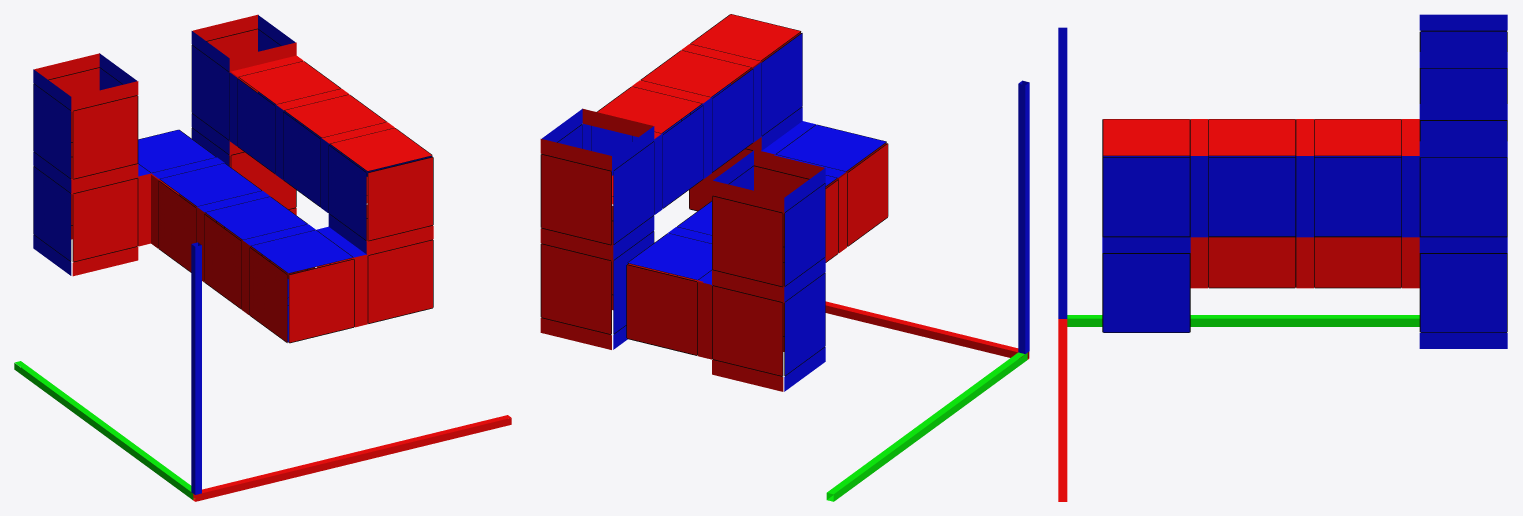
The picture shows the model from 3 angles, left to right: view 1: azimuth 30°, elevation 25°; view 2: azimuth 150°, elevation 25°; view 3: azimuth 270°, elevation 25°; orthographic projection. The views are drawn at different scales.
Visible parts, largest first — view 1: spider(1, 0, 1):-J, spider(2, 0, 1):-J, spider(2, 0, 2):-J, spider(0, 3, 1):-J, spider(0, 3, 2):-J, spider(2, 2, 2):-I, spider(0, 3, 2):-I, spider(2, 0, 2):-I, spider(0, 3, 1):-I, spider(2, 3, 2):-I, spider(1, 0, 1):-I, spider(2, 1, 2):-I (+37 smaller); view 2: spider(0, 3, 1):+J, spider(2, 3, 1):+J, spider(1, 3, 1):+J, spider(2, 3, 2):+J, spider(0, 3, 2):+J, spider(2, 1, 2):-I, spider(0, 3, 1):-I, spider(0, 3, 2):-I, spider(1, 0, 1):-I, spider(2, 0, 2):-I, spider(2, 2, 2):-I, spider(2, 3, 2):-I (+39 smaller); view 3: spider(2, 0, 2):+I, spider(2, 1, 2):+I, spider(2, 3, 2):+I, spider(2, 2, 2):+I, spider(2, 0, 1):+I, spider(2, 3, 1):+I, spider(1, 1, 1):+I, spider(1, 2, 1):+I, spider(2, 0, 2):+K, spider(2, 1, 2):+K, spider(2, 2, 2):+K, spider(0, 3, 2):+I (+22 smaller).
Part boxes in pixels (<box>): spider(1, 0, 1):-J: <box>288,259,354,343</box>; spider(2, 0, 1):-J: <box>367,239,433,323</box>; spider(2, 0, 2):-J: <box>367,156,433,241</box>; spider(0, 3, 1):-J: <box>72,178,138,262</box>; spider(0, 3, 2):-J: <box>72,95,138,179</box>; spider(2, 2, 2):-I: <box>237,78,275,173</box>; spider(0, 3, 2):-I: <box>33,83,71,178</box>; spider(2, 0, 2):-I: <box>328,145,366,240</box>; spider(0, 3, 1):-I: <box>33,166,71,261</box>; spider(2, 3, 2):-I: <box>191,45,229,140</box>; spider(1, 0, 1):-I: <box>249,247,287,342</box>; spider(2, 1, 2):-I: <box>283,111,320,207</box>; spider(0, 3, 1):+J: <box>712,285,783,376</box>; spider(2, 3, 1):+J: <box>540,243,611,334</box>; spider(1, 3, 1):+J: <box>626,264,697,355</box>; spider(2, 3, 2):+J: <box>540,154,611,245</box>; spider(0, 3, 2):+J: <box>712,195,783,287</box>; spider(2, 1, 2):-I: <box>712,69,753,172</box>; spider(0, 3, 1):-I: <box>784,272,825,376</box>; spider(0, 3, 2):-I: <box>784,183,825,286</box>; spider(1, 0, 1):-I: <box>847,143,888,246</box>; spider(2, 0, 2):-I: <box>761,33,802,136</box>; spider(2, 2, 2):-I: <box>662,105,703,208</box>; spider(2, 3, 2):-I: <box>613,141,654,244</box>; spider(2, 0, 2):+I: <box>1102,157,1190,237</box>; spider(2, 1, 2):+I: <box>1208,157,1296,237</box>; spider(2, 3, 2):+I: <box>1419,157,1507,237</box>; spider(2, 2, 2):+I: <box>1314,157,1401,237</box>; spider(2, 0, 1):+I: <box>1102,253,1190,332</box>; spider(2, 3, 1):+I: <box>1419,253,1507,332</box>; spider(1, 1, 1):+I: <box>1208,236,1296,288</box>; spider(1, 2, 1):+I: <box>1314,236,1401,288</box>; spider(2, 0, 2):+K: <box>1102,119,1190,155</box>; spider(2, 1, 2):+K: <box>1208,119,1296,155</box>; spider(2, 2, 2):+K: <box>1314,119,1401,155</box>; spider(0, 3, 2):+I: <box>1419,68,1507,120</box>.
Bounding box in the file's own units: 4.8 × 4.1 × 5.11.
